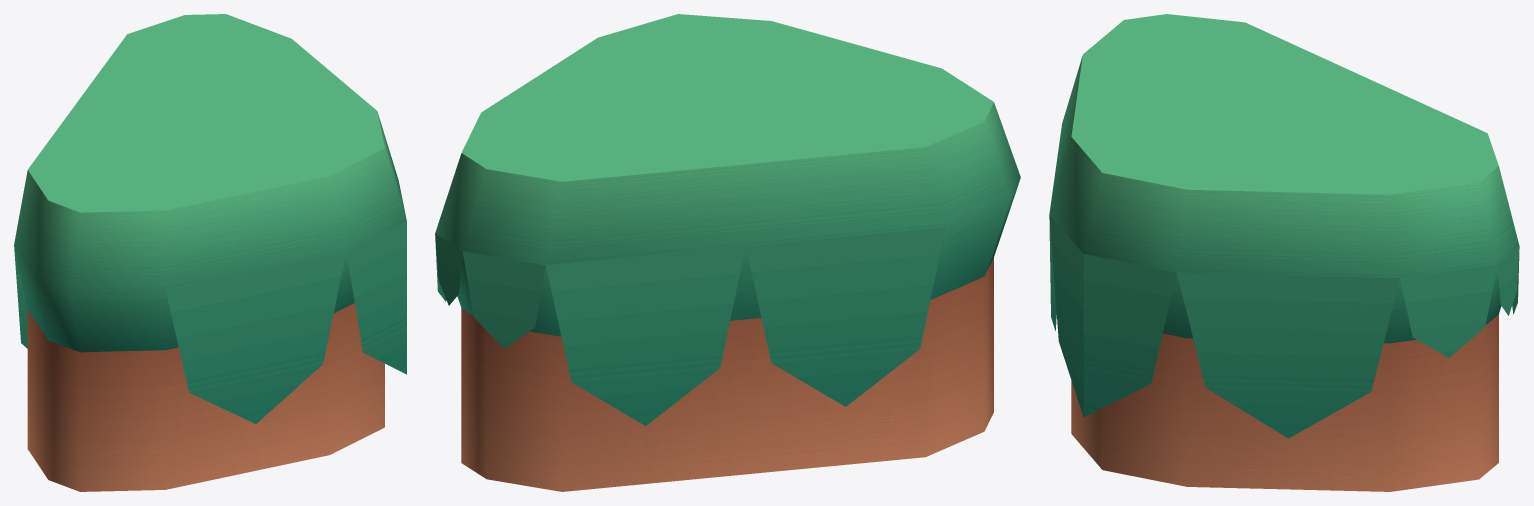
File: block-grass-corner-overhang-low.012_lev2.glb
3 renders of one model, left to right at view 1: azimuth 30°, elevation 25°; view 2: azimuth 150°, elevation 25°; view 3: azimuth 270°, elevation 25°, orthographic. The views are drawn at different scales.
Parts seen in each view (by area): view 1: block-grass-corner-overhang-low.012_lev2; view 2: block-grass-corner-overhang-low.012_lev2; view 3: block-grass-corner-overhang-low.012_lev2.
Part boxes in pixels (x1=…): block-grass-corner-overhang-low.012_lev2: x1=14, y1=14, x2=406, y2=491; block-grass-corner-overhang-low.012_lev2: x1=435, y1=14, x2=1020, y2=491; block-grass-corner-overhang-low.012_lev2: x1=1049, y1=14, x2=1519, y2=491.
Bounding box in the file's own units: 1.62 × 1.13 × 1.62.
Materials: 1 (1 with a texture image).
